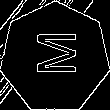M_W: (31, 35, 79, 81)
